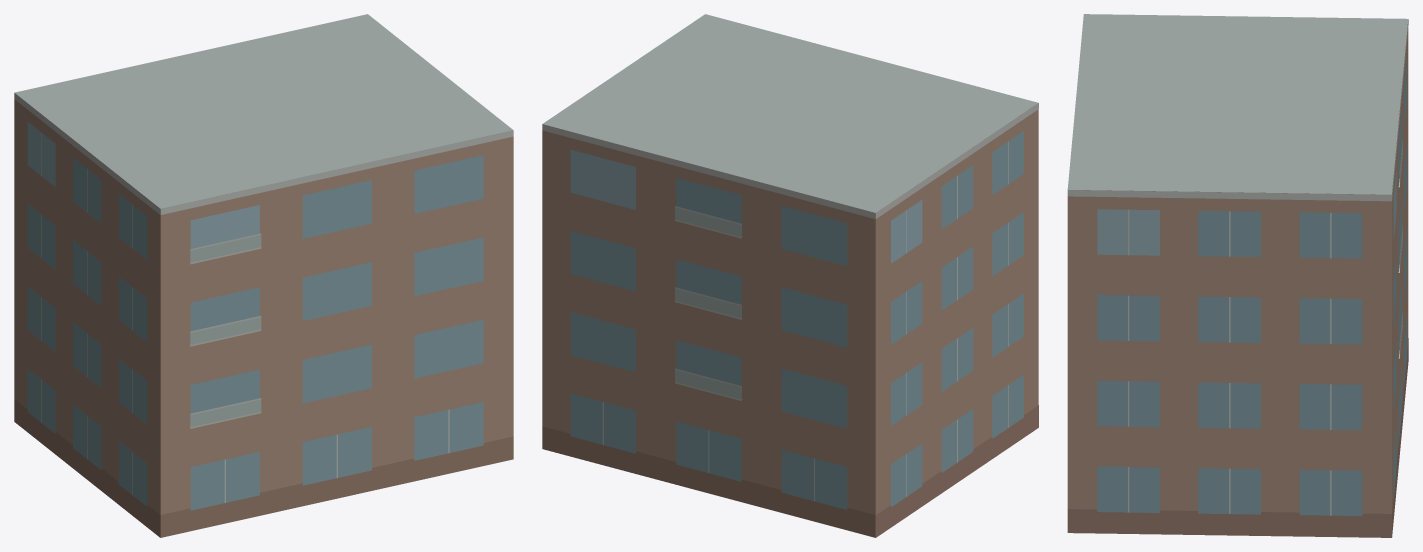
Rendered from survey-upis-32654199.glb.
3 views of the same model, side by side, from view 1: azimuth 30°, elevation 25°; view 2: azimuth 150°, elevation 25°; view 3: azimuth 270°, elevation 25° (orthographic). The views are drawn at different scales.
Visible parts, largest first — view 1: survey-upis-32654199.tmp; view 2: survey-upis-32654199.tmp; view 3: survey-upis-32654199.tmp.
Part boxes in pixels (x1,y1,x2,y2): survey-upis-32654199.tmp: (14, 14, 513, 537); survey-upis-32654199.tmp: (542, 14, 1038, 537); survey-upis-32654199.tmp: (1067, 14, 1408, 537).
Size of the model in its own units: 14.29 by 12.65 by 11.39.
